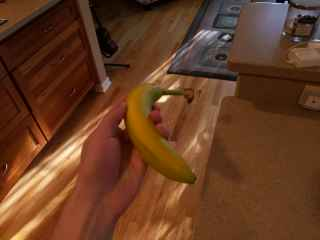banana: (124, 83, 202, 188)
